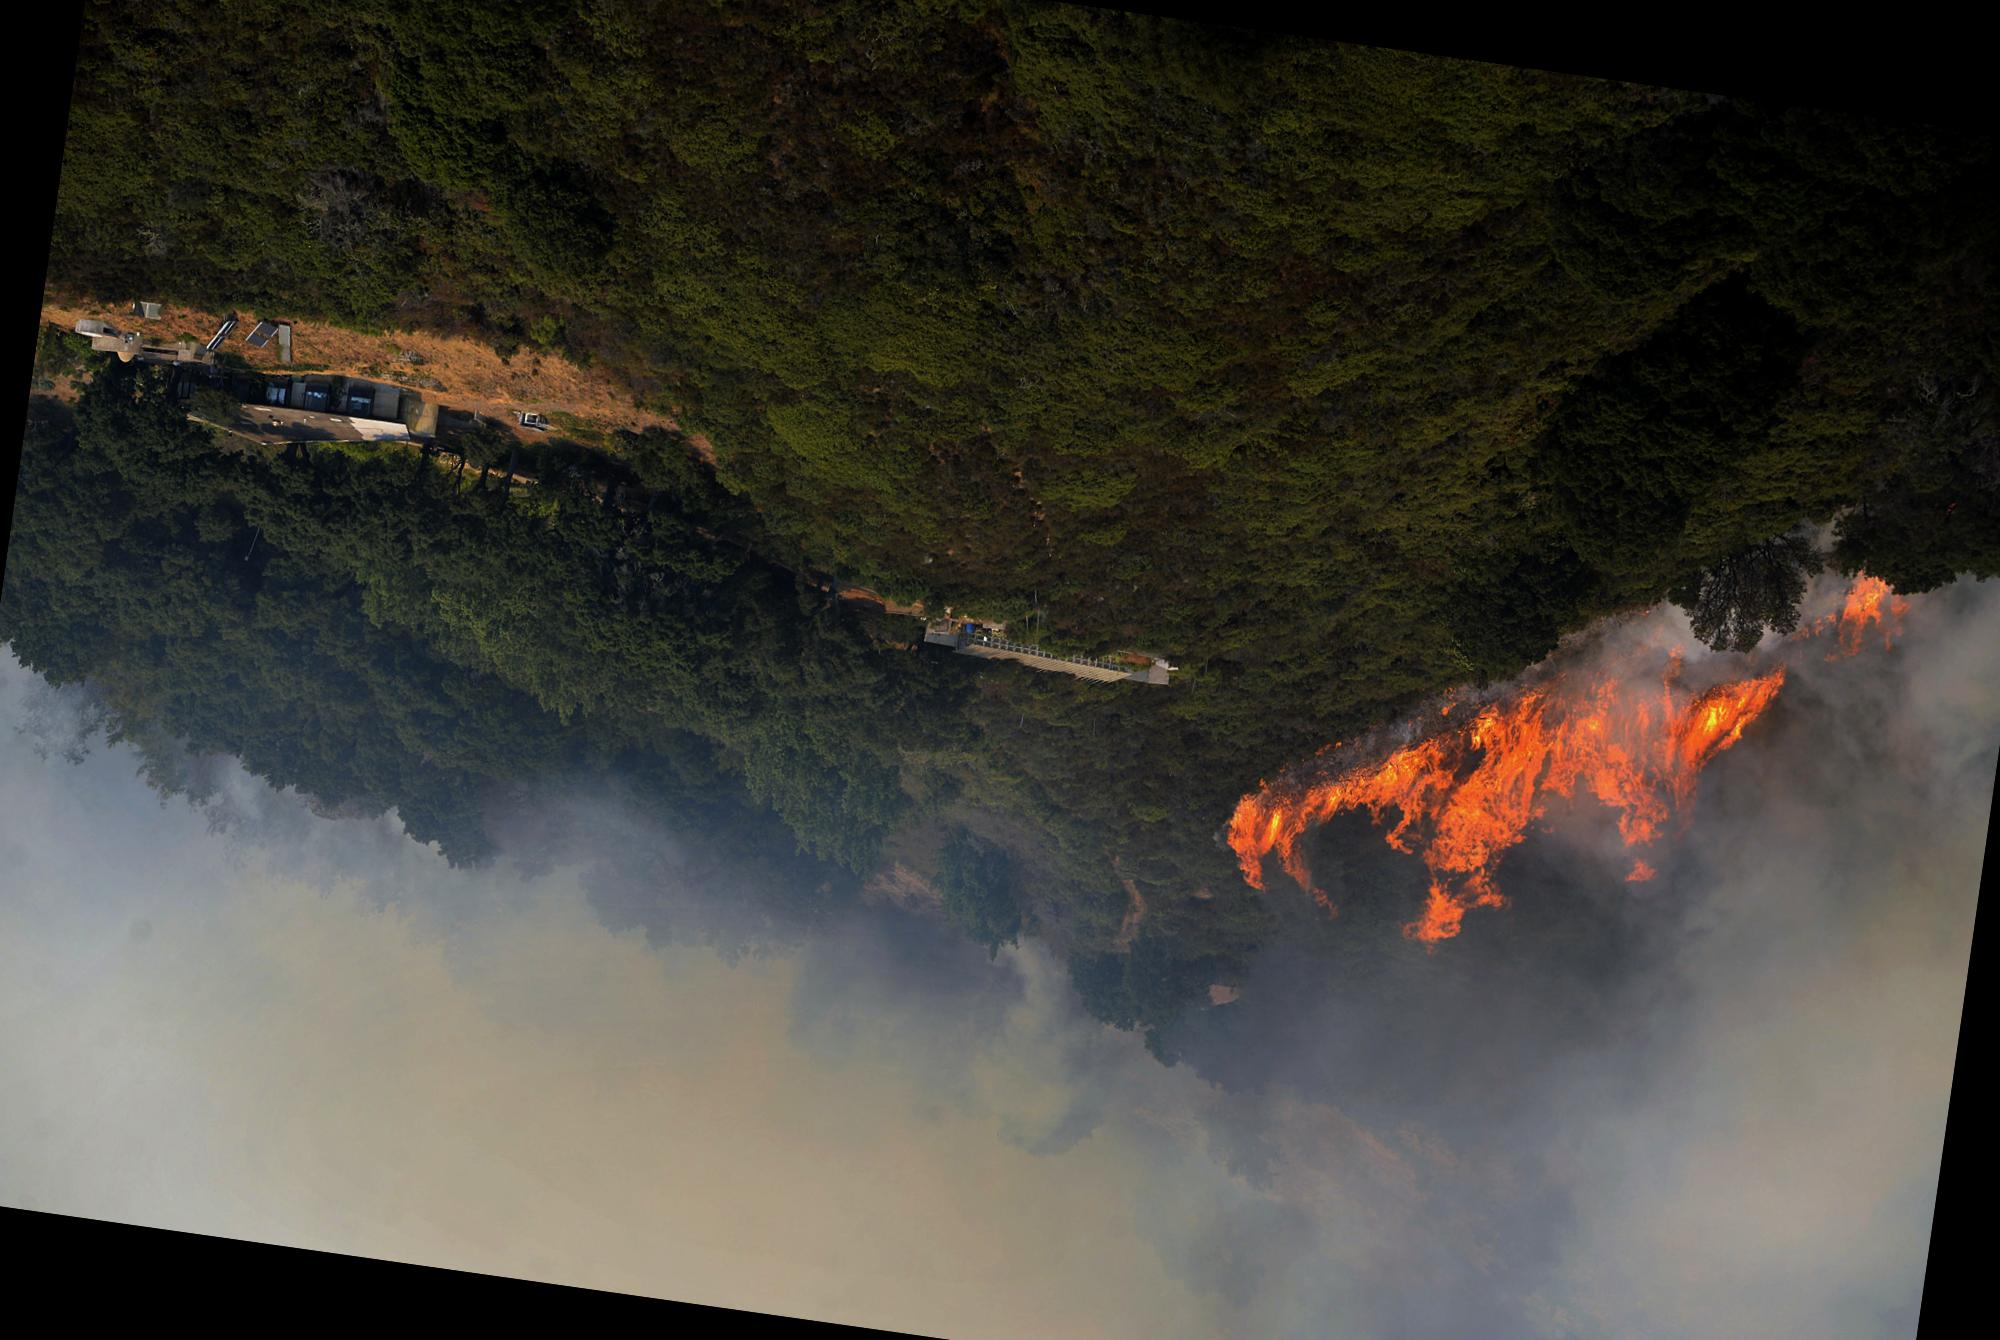fire: (1206, 588, 1806, 983), (1824, 549, 1924, 646)
smoke: (0, 845, 963, 1331), (1309, 673, 1999, 1340)
